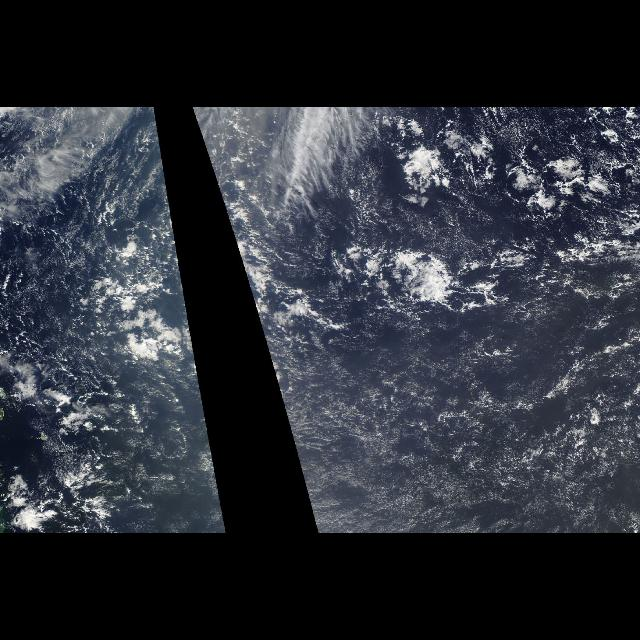Sugar: (273, 306, 639, 534), (0, 108, 121, 370)
